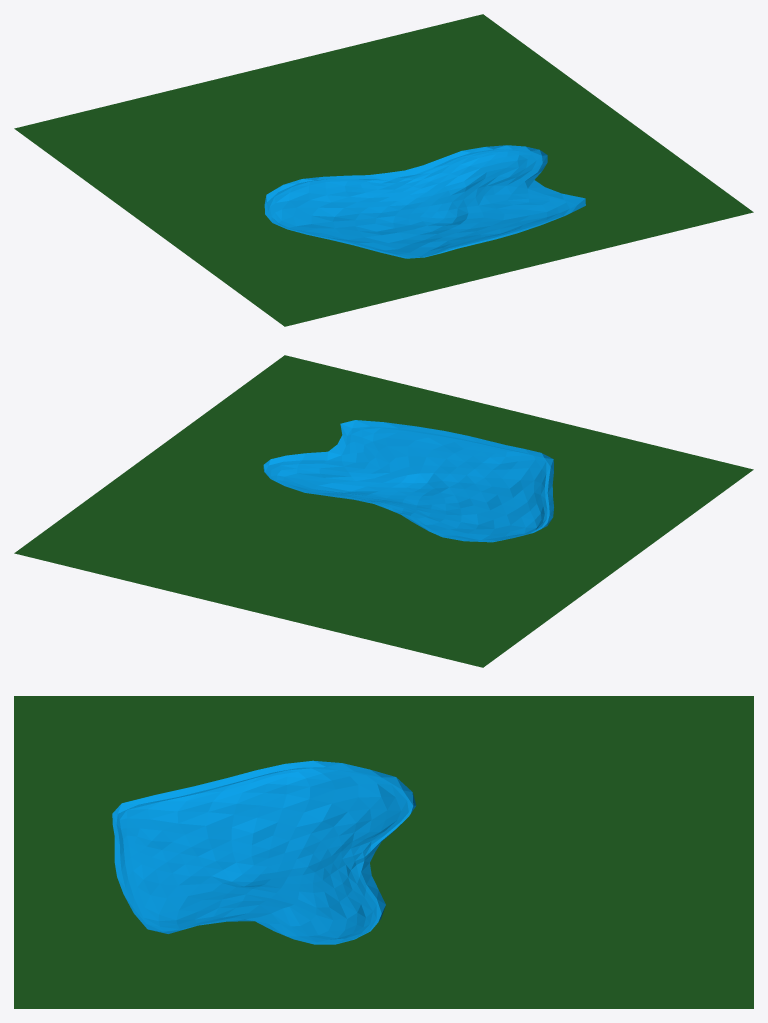
The model's file is grunt.fbx.
3 views of the same model, one above another, from view 1: azimuth 30°, elevation 25°; view 2: azimuth 150°, elevation 25°; view 3: azimuth 270°, elevation 25° (orthographic). The views are drawn at different scales.
Parts seen in each view (by area): view 1: bagno; view 2: bagno; view 3: bagno.
Boxes of the visible parts, x1=… form: bagno: x1=14, y1=14, x2=753, y2=326; bagno: x1=14, y1=355, x2=753, y2=667; bagno: x1=14, y1=696, x2=753, y2=1008.
Size of the model in its own units: 536 by 17.12 by 536.
